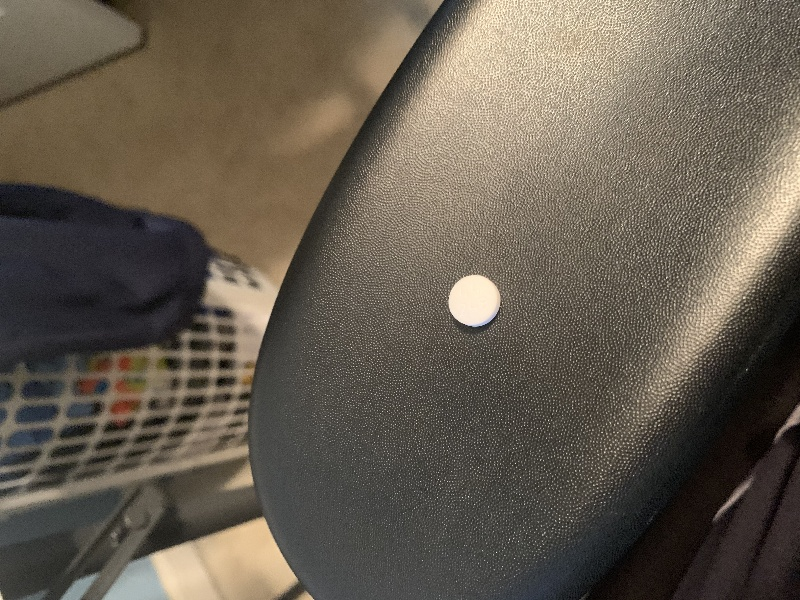Aspirin: (445, 271, 506, 333)
